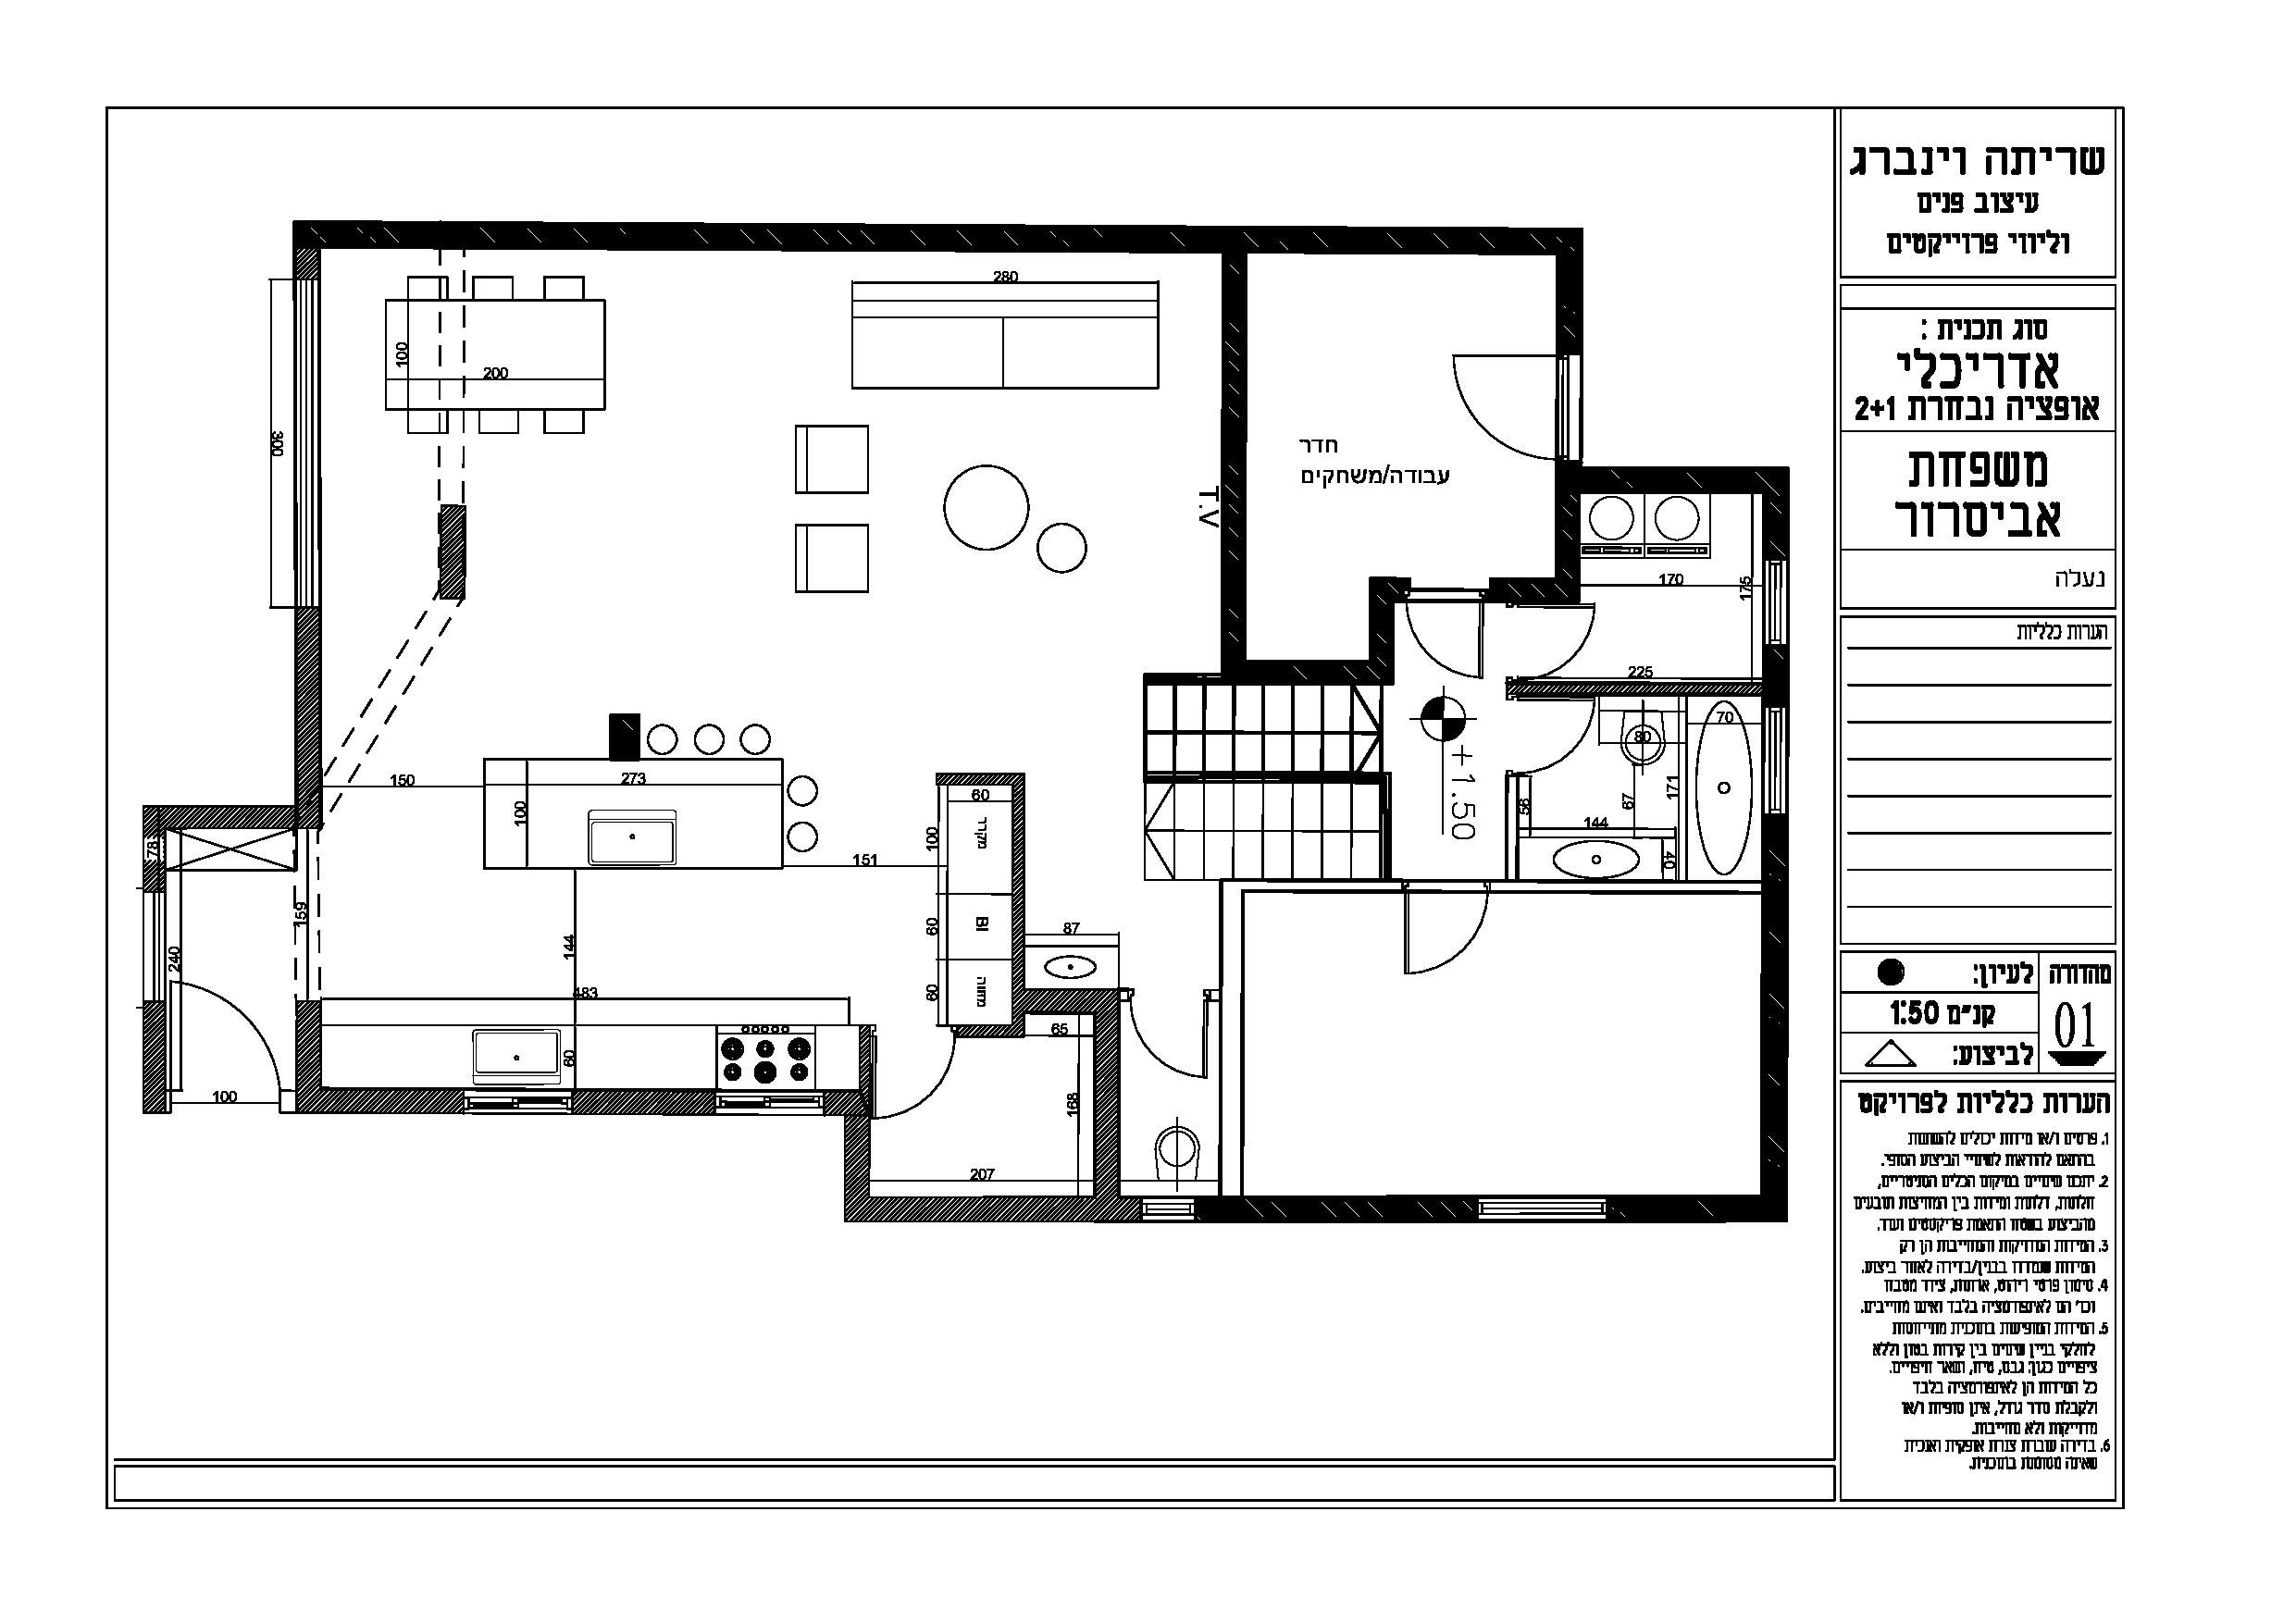door: (1442, 348, 1544, 469), (1383, 901, 1502, 982), (875, 1045, 968, 1121), (1126, 1015, 1217, 1091), (1509, 696, 1600, 771), (1514, 606, 1607, 680), (1400, 613, 1491, 687)
wall: (1221, 251, 1245, 674), (845, 1196, 1142, 1223), (292, 606, 323, 824), (1212, 1196, 1462, 1223), (295, 998, 321, 1112)
